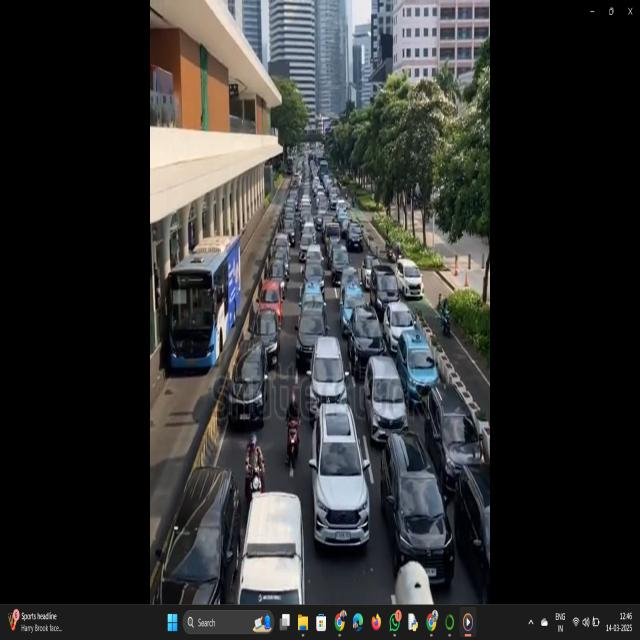Ambulance: (241, 484, 306, 610)
